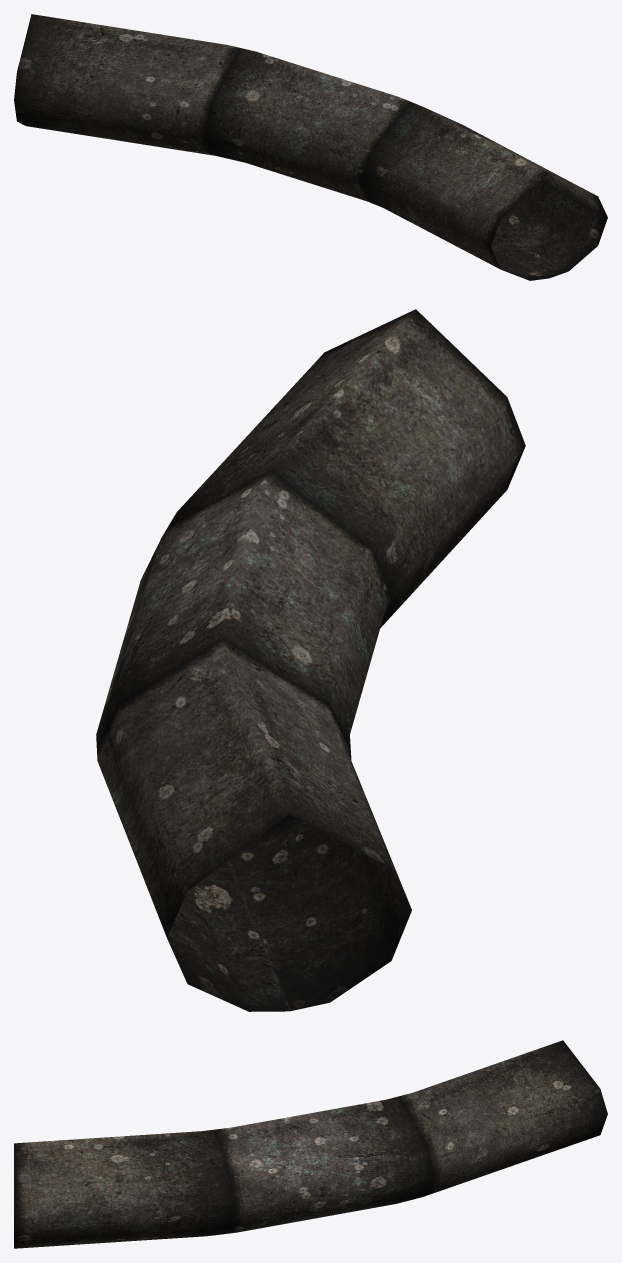
File: large_45_left.dae
3 renders of one model, top to bottom at view 1: azimuth 30°, elevation 25°; view 2: azimuth 150°, elevation 25°; view 3: azimuth 270°, elevation 25°, orthographic. The views are drawn at different scales.
Visible parts, largest first — view 1: tentacle_large_45_left; view 2: tentacle_large_45_left; view 3: tentacle_large_45_left.
Part boxes in pixels (<box>): tentacle_large_45_left: <box>14,14,607,280</box>; tentacle_large_45_left: <box>96,309,525,1011</box>; tentacle_large_45_left: <box>14,1040,607,1248</box>.
Size of the model in its own units: 1.44 by 0.4458 by 2.43.
